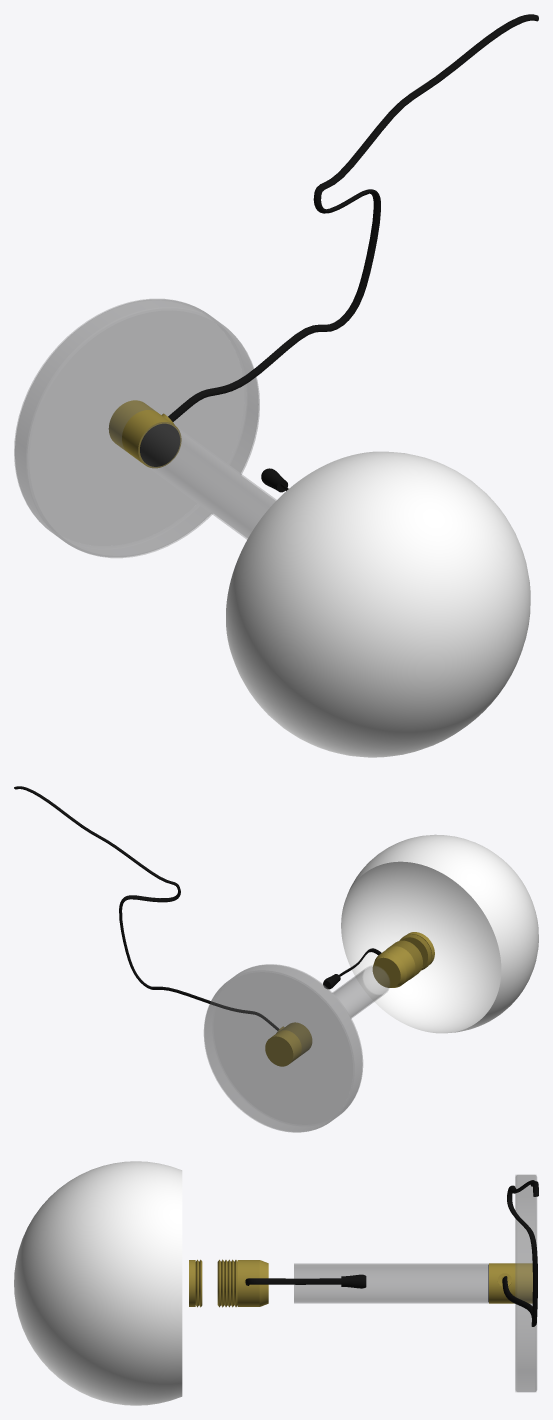
The picture shows the model from 3 angles, top to bottom: view 1: azimuth 30°, elevation 25°; view 2: azimuth 150°, elevation 25°; view 3: azimuth 270°, elevation 25°; orthographic projection. The views are drawn at different scales.
Parts seen in each view (by area): view 1: Mesh (×9); view 2: Mesh (×10); view 3: Mesh (×14).
Part boxes in pixels (<box>): Mesh (×9): <box>14,14,538,757</box>; Mesh (×10): <box>14,786,538,1132</box>; Mesh (×14): <box>14,1161,538,1405</box>.
Size of the model in its own units: 39.64 by 31.47 by 41.11.
